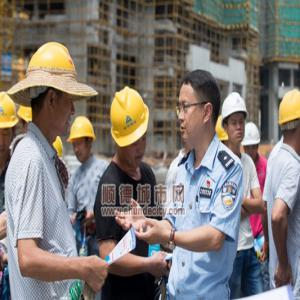none: (176, 66, 222, 146)
white: (222, 92, 247, 147), (242, 124, 261, 162)
yellow: (28, 40, 78, 139), (111, 86, 150, 170), (68, 115, 96, 163), (279, 90, 300, 150), (2, 90, 18, 162)
